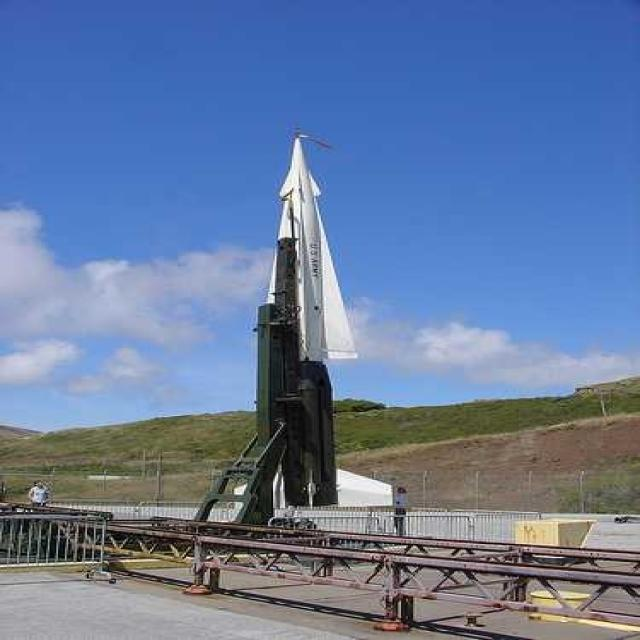missile: (254, 123, 377, 374)
